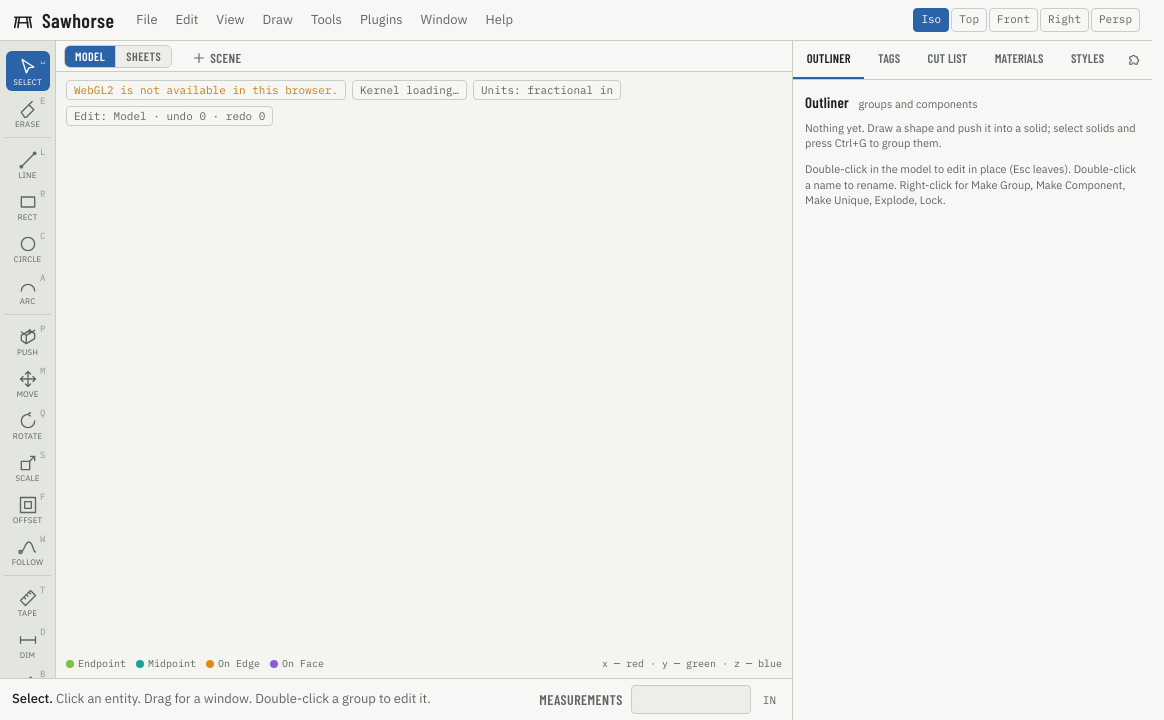
Test: App shell › reports unreadable values without touching the model
Press p
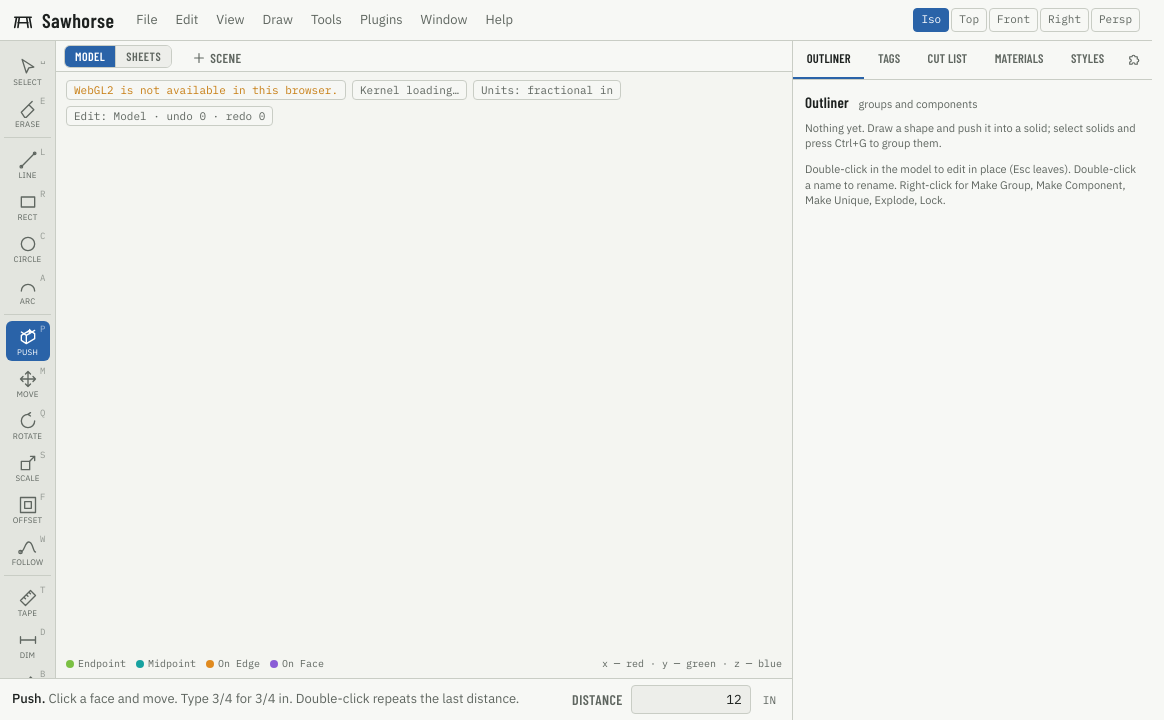
Replace the text in the field named "Value" with "banana": (691, 700) x1=631 y1=685 x2=751 y2=714
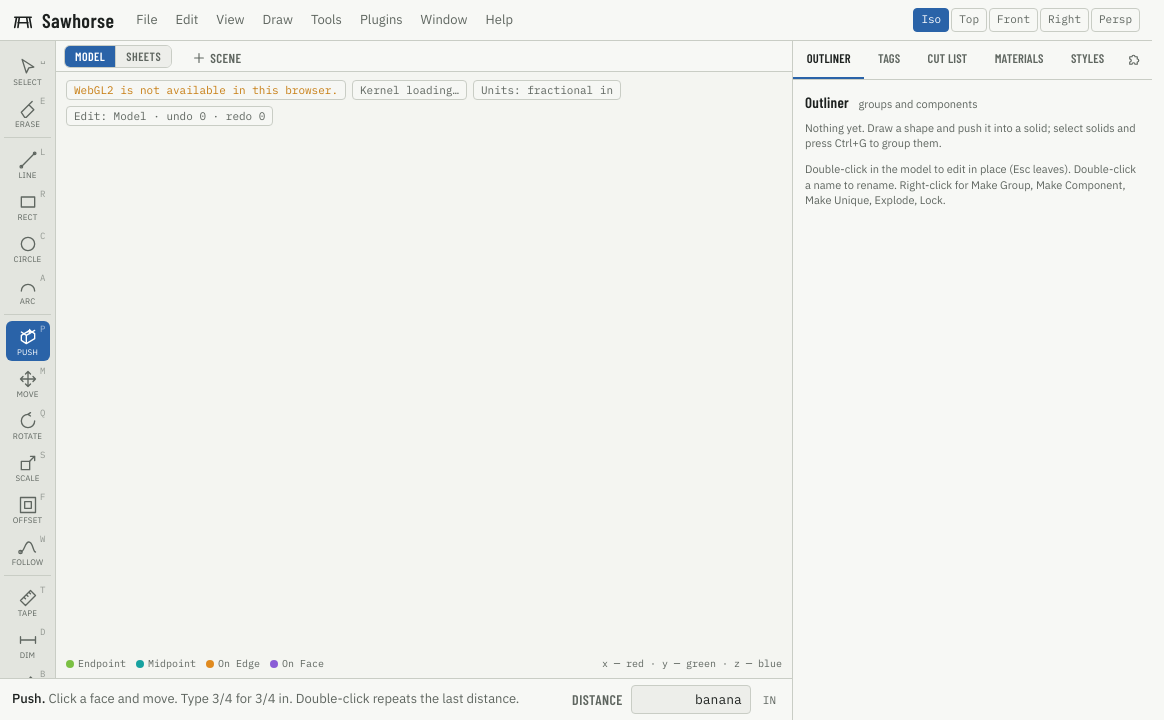
Press Enter in the field named "Value", box x1=631 y1=685 x2=751 y2=714
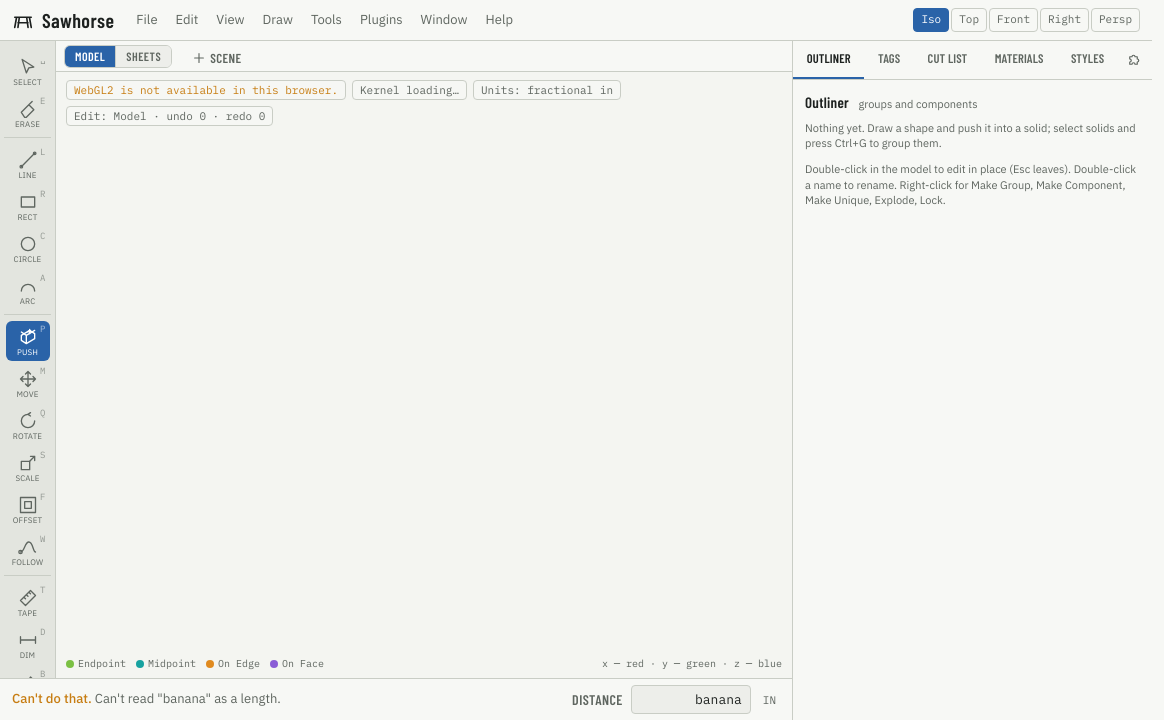
Check: the message with id "hint" shows "banana", box x1=95 y1=690 x2=281 y2=707
